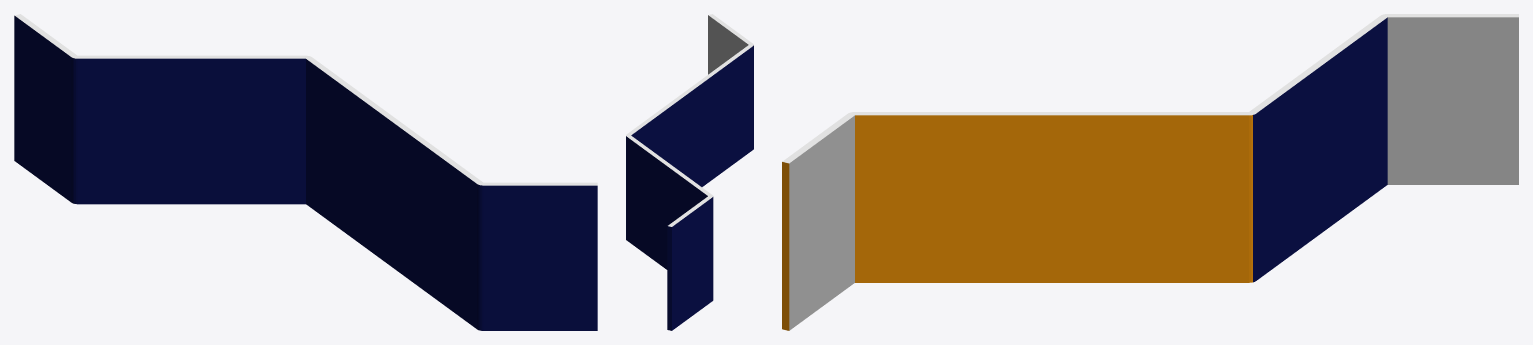
The model's file is EU_02_soloFede.obj.
3 renders of one model, left to right at view 1: azimuth 30°, elevation 25°; view 2: azimuth 150°, elevation 25°; view 3: azimuth 270°, elevation 25°, orthographic. The views are drawn at different scales.
Visible parts, largest first — view 1: Plane.001; view 2: Plane.001; view 3: Plane.001.
Part boxes in pixels (x1,y1,x2,y2): Plane.001: (14, 14, 597, 330); Plane.001: (626, 14, 753, 330); Plane.001: (782, 14, 1518, 330).
Size of the model in its own units: 1.72 by 0.9 by 3.59.
